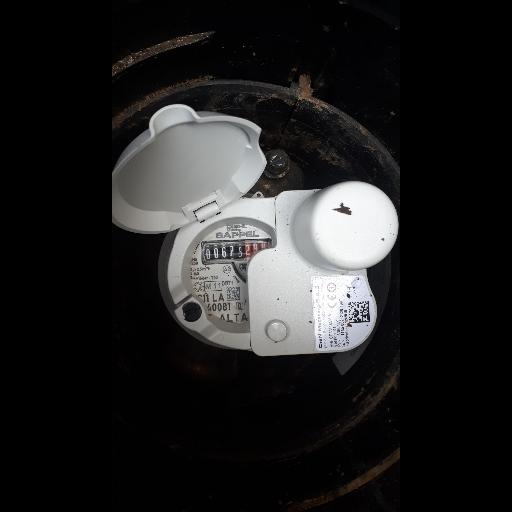0: (213, 245, 222, 260), (205, 246, 213, 261)
2: (245, 244, 253, 259)
5: (237, 244, 246, 259)
6: (221, 245, 230, 260)
7: (229, 244, 238, 259)
9: (252, 243, 260, 256), (259, 242, 267, 250)
border_water_meter_number: (201, 239, 273, 266)
